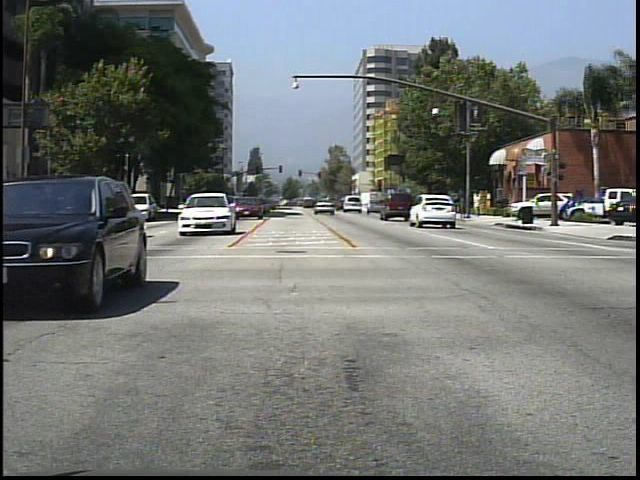person: (436, 191, 452, 221), (473, 190, 485, 219)
